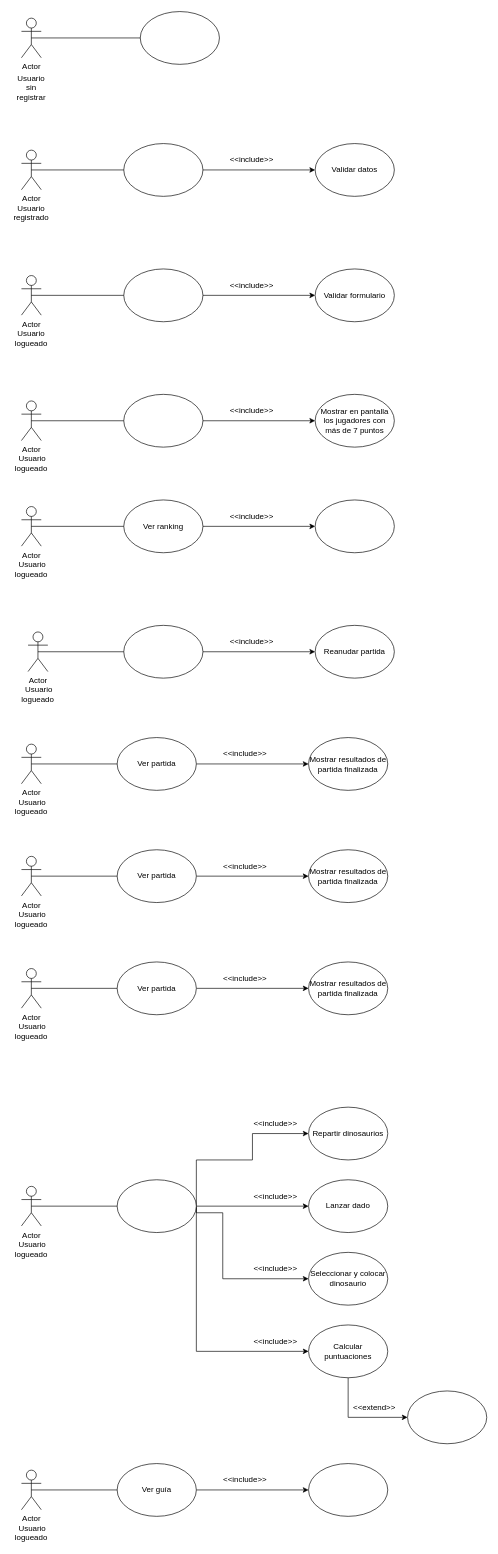
This 498x1554 diagram has some shape labels left out. Each missing label, with the centre of its shape:
"Actualizar ranking y estadísticas" belongs at [447,1417].
"Cargar contenido de la guía" belongs at [348,1489].
"Cargar partida" belongs at [163,651].
"Crear nueva partida" belongs at [163,295].
"Inicio de sesión" belongs at [163,169].
"Jugar partida" belongs at [156,1206].
"Mostrar ranking" belongs at [354,526].
"Registro de usuario" belongs at [179,37].
"Ver estadísticas" belongs at [163,420].
